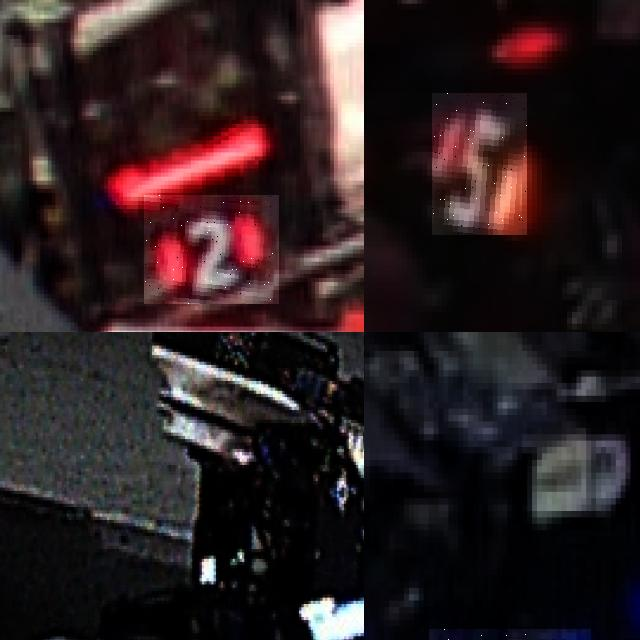R2: (144, 195, 279, 304)
R5: (432, 93, 527, 235)
